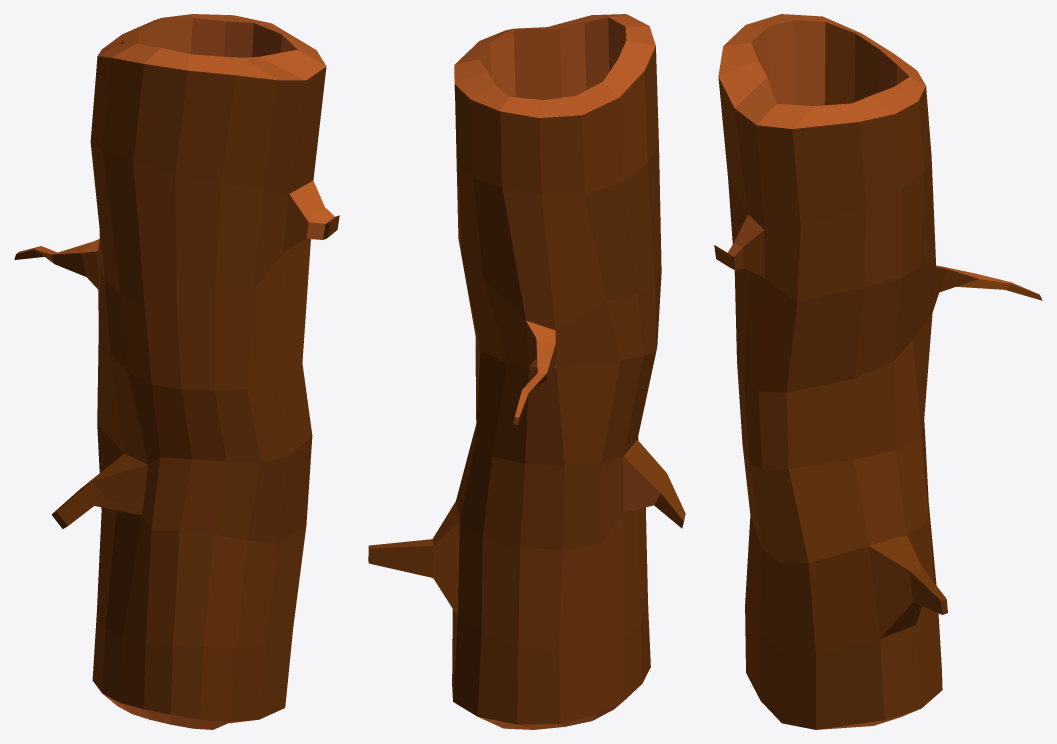
The model's file is logSmall.fbx.
The picture shows the model from 3 angles, left to right: view 1: azimuth 30°, elevation 25°; view 2: azimuth 150°, elevation 25°; view 3: azimuth 270°, elevation 25°; orthographic projection. The views are drawn at different scales.
Visible parts, largest first — view 1: Cylinder.037; view 2: Cylinder.037; view 3: Cylinder.037.
Part boxes in pixels (x1,y1,x2,y2): Cylinder.037: [14, 14, 339, 729]; Cylinder.037: [368, 14, 685, 729]; Cylinder.037: [714, 14, 1042, 729].
Bounding box in the file's own units: 1.84 × 4.41 × 1.99.
